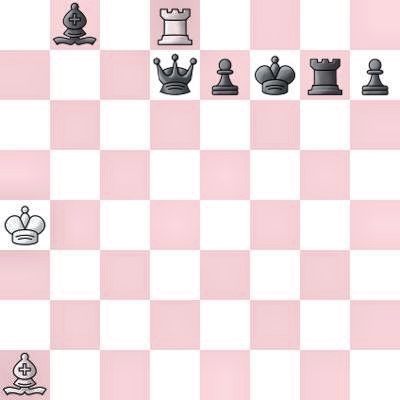black-bishop: (50, 0, 100, 50)
black-king: (250, 50, 300, 100)
black-pawn: (200, 50, 250, 100), (350, 50, 400, 100)
black-queen: (150, 50, 200, 100)
black-rook: (300, 50, 350, 100)
white-bishop: (0, 350, 50, 400)
white-king: (0, 200, 50, 250)
white-rook: (150, 0, 200, 50)
